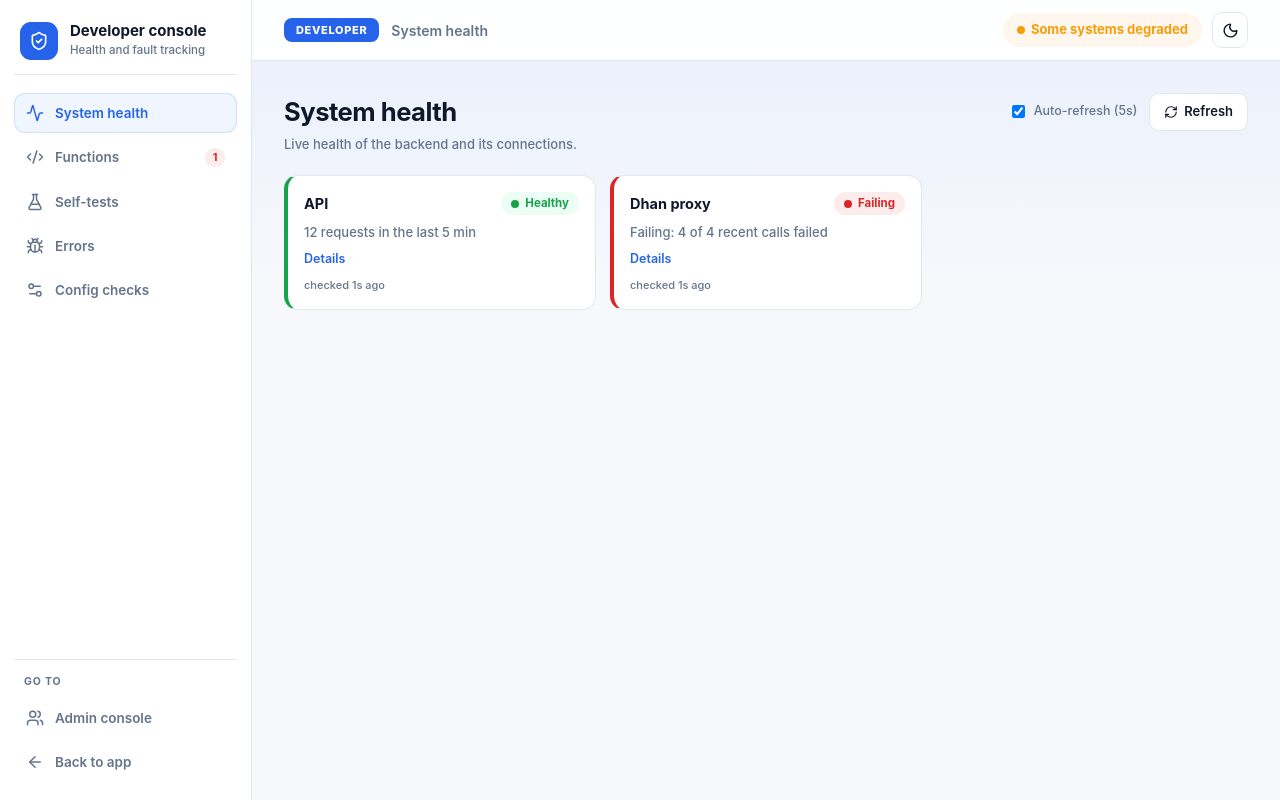
DeveloperPanel › runs the self-tests on demand and shows pass/fail results
Click the tab "Self-tests". click: (126, 202)
box: 14,182 -> 237,222
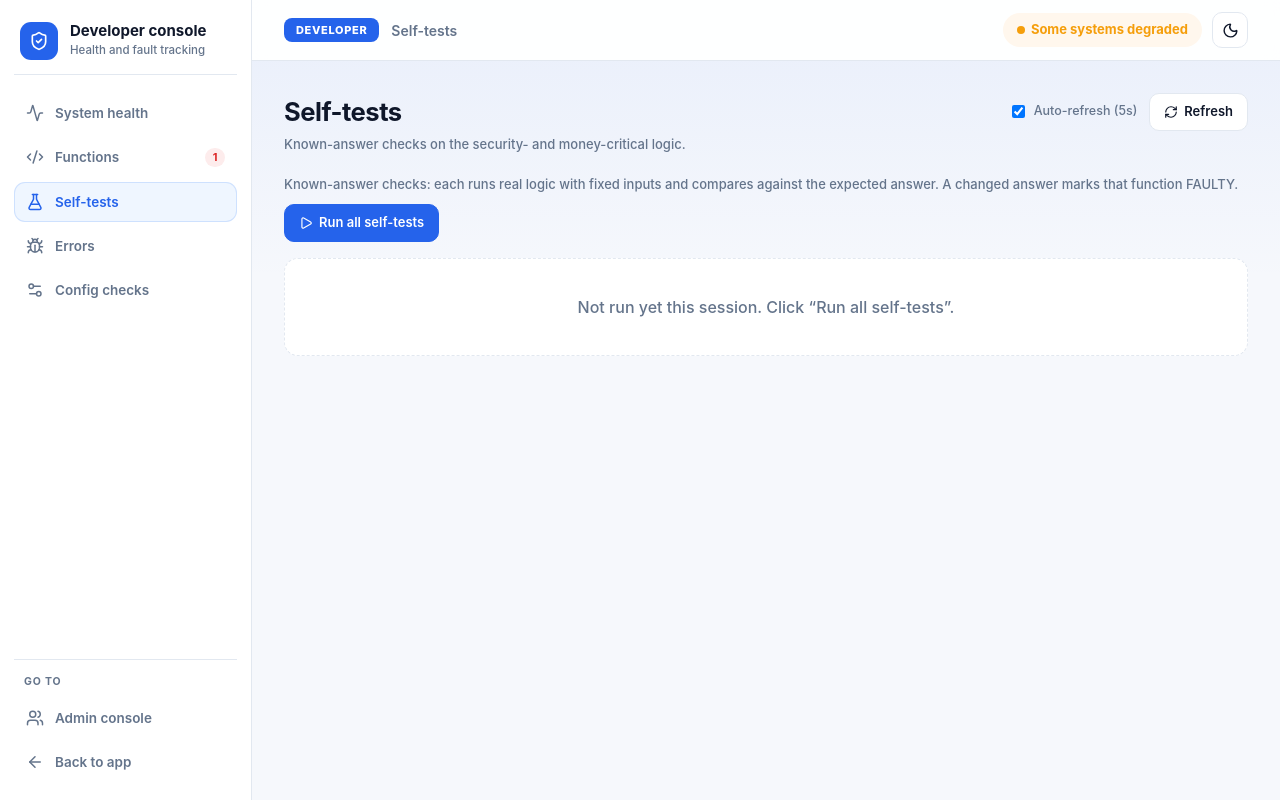
Click the button "Run all self-tests". click: (362, 223)
box: 284,204 -> 439,242
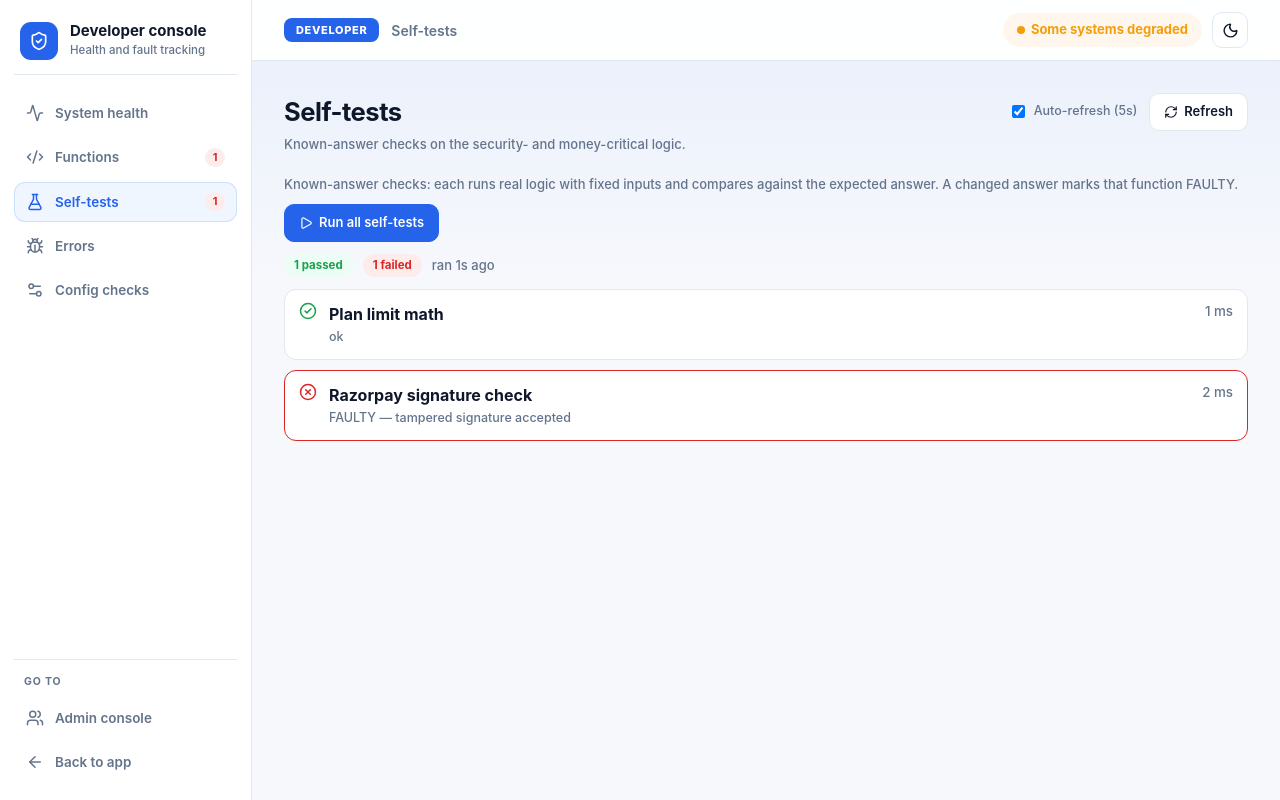
Expected: the text "FAULTY — tampered signature accepted" is shown, 329,410 -> 571,425
Expected: the number of list items with class "dev-selftest-fail" is 1, 284,370 -> 1248,441
